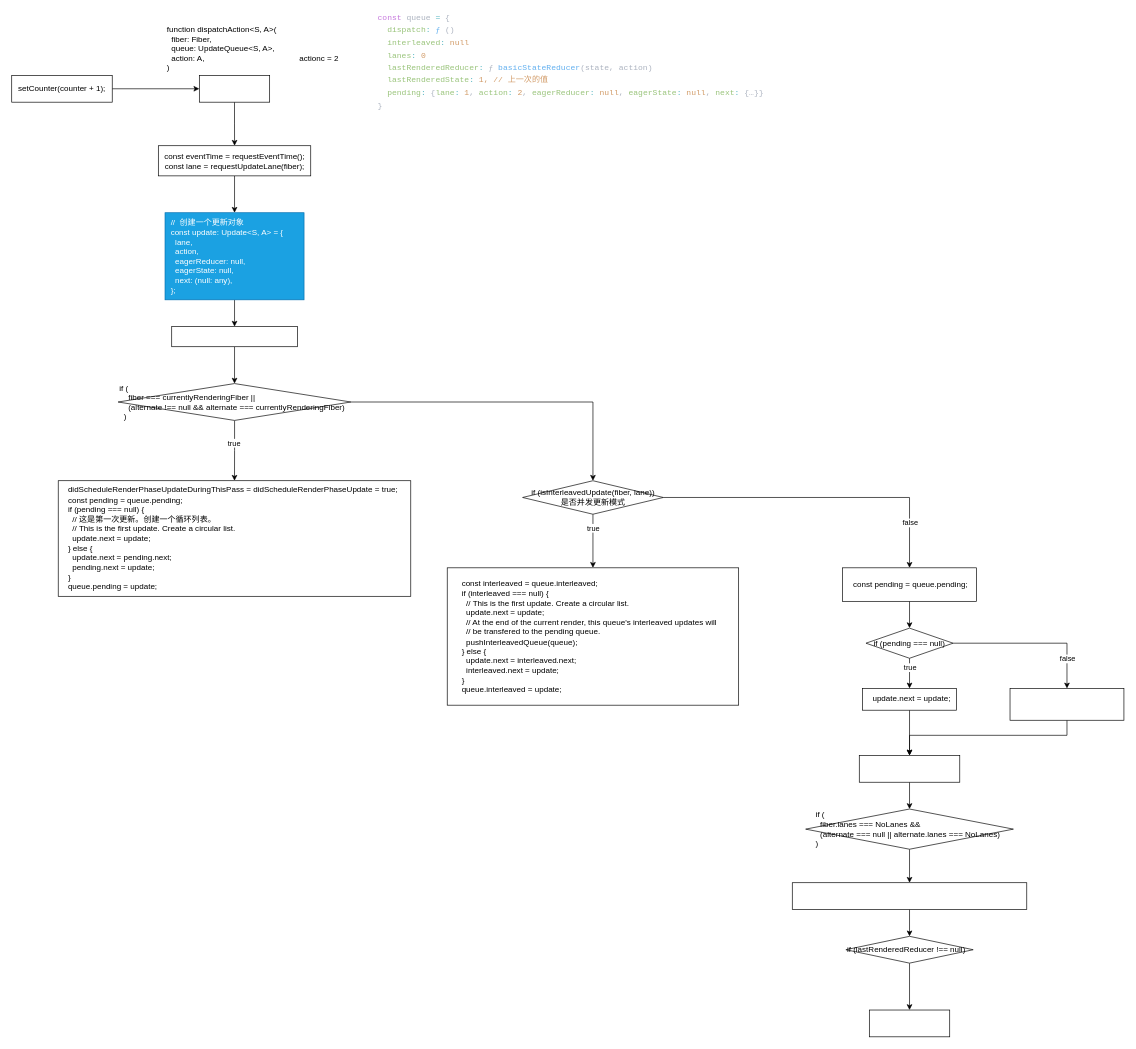
Some shapes in this 1136 by 1049 pixel diagram are drawn without their labels. Each missing label, with the box of its shape:
const alternate = fiber.alternate;: (171, 326, 297, 347)
const lastRenderedReducer = queue.lastRenderedReducer;: (792, 882, 1027, 910)
dispatchAction: (199, 75, 270, 102)
let prevDispatcher;: (869, 1009, 950, 1037)
queue.pending = update;: (859, 755, 960, 782)
update.next = pending.next; pending.next = update;: (1009, 688, 1124, 720)
